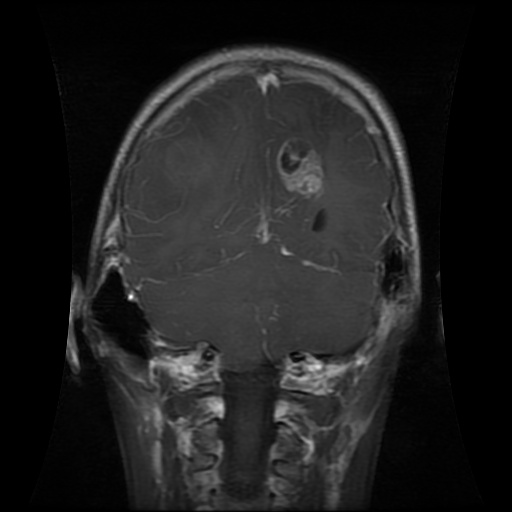glioma: (277, 136, 325, 202)
